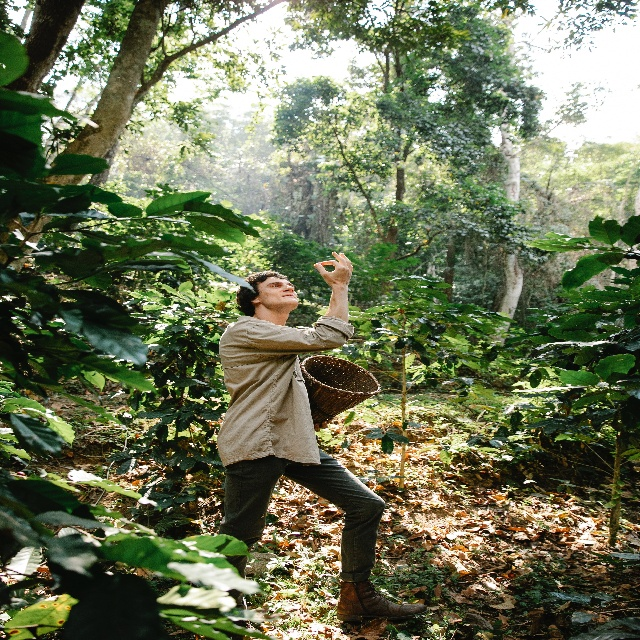Sin_guantes: (313, 251, 354, 287)
